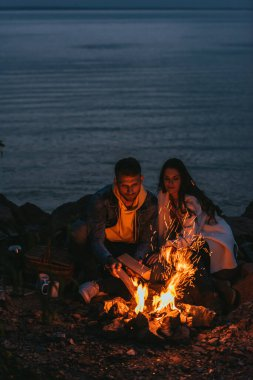fire: (134, 251, 197, 321)
